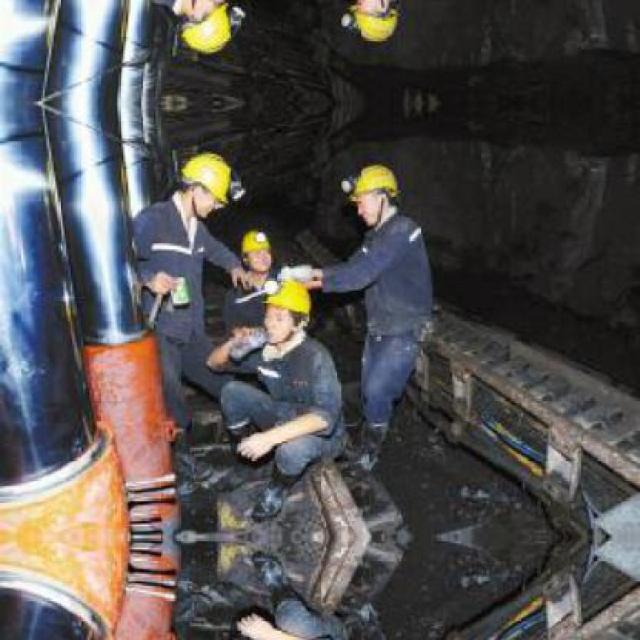helmet: (172, 145, 237, 218), (172, 0, 238, 58), (349, 159, 402, 226), (264, 275, 310, 337), (349, 0, 403, 46), (238, 220, 272, 278)
